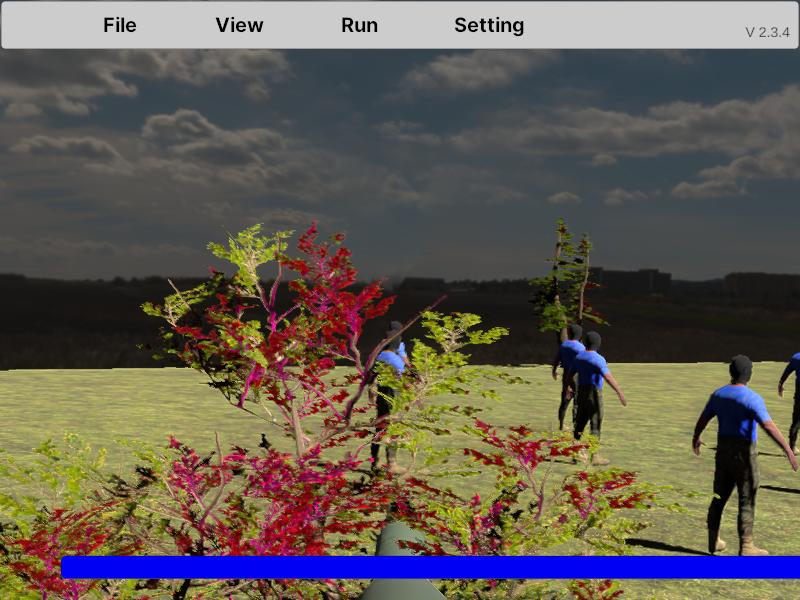Human: (692, 353, 798, 558), (566, 329, 627, 468), (551, 323, 607, 442), (779, 331, 800, 466)
